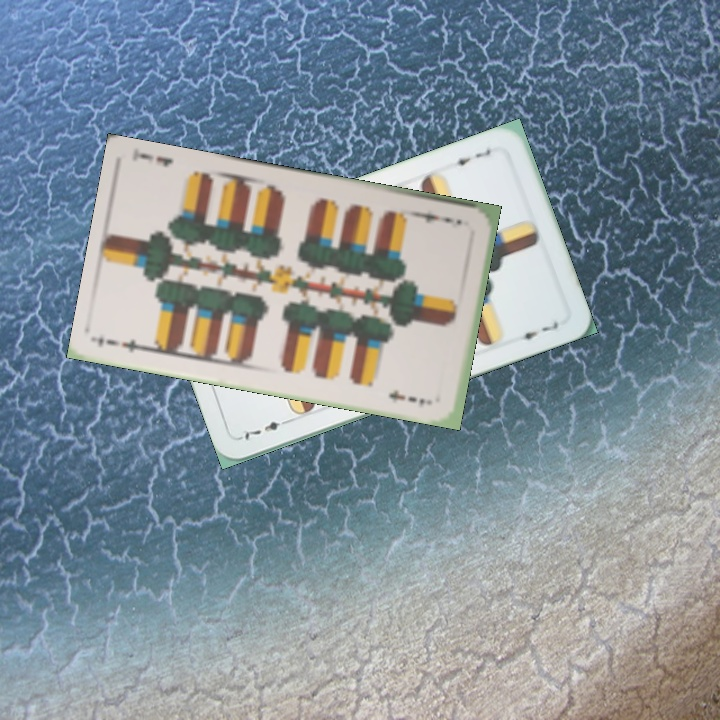E7: (236, 415, 294, 443), (446, 145, 494, 169), (413, 208, 465, 228), (102, 335, 154, 355)
